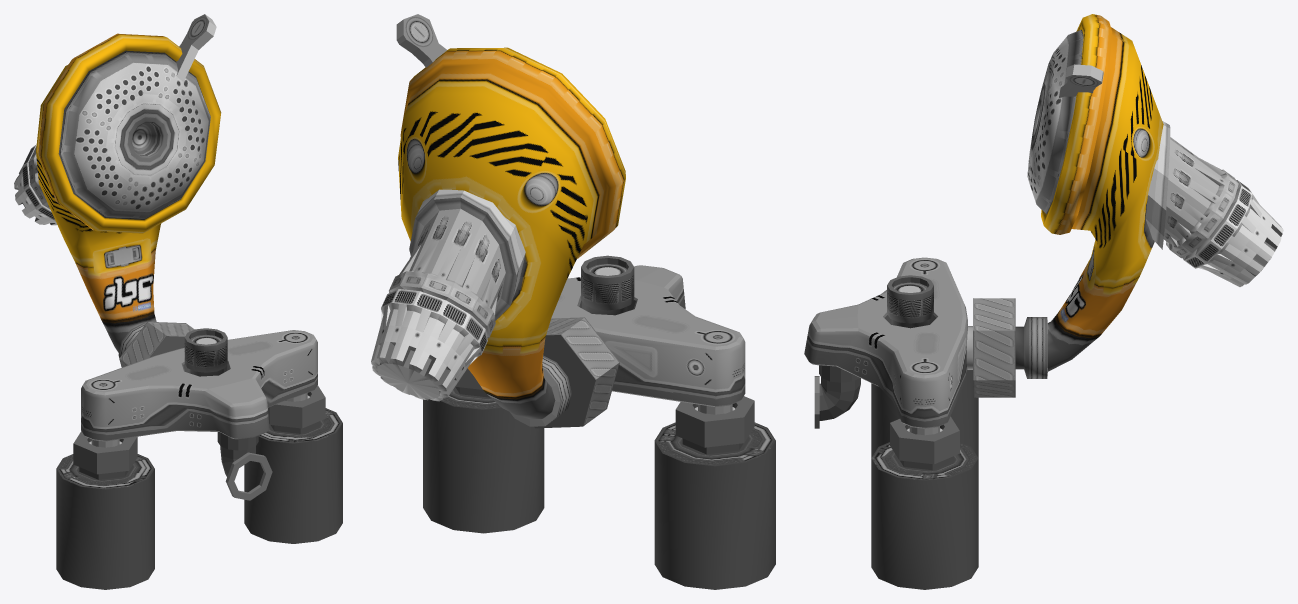
Rendered from mars-outfall.glb.
3 renders of one model, left to right at view 1: azimuth 30°, elevation 25°; view 2: azimuth 150°, elevation 25°; view 3: azimuth 270°, elevation 25°, orthographic. The views are drawn at different scales.
Parts seen in each view (by area): view 1: Cylinder.004; view 2: Cylinder.004; view 3: Cylinder.004.
Part boxes in pixels (x1,y1,x2,y2): Cylinder.004: [14, 14, 342, 589]; Cylinder.004: [371, 14, 775, 589]; Cylinder.004: [804, 14, 1283, 589].
Bounding box in the file's own units: 25.76 × 41.05 × 36.
1 material, 1 textured.
